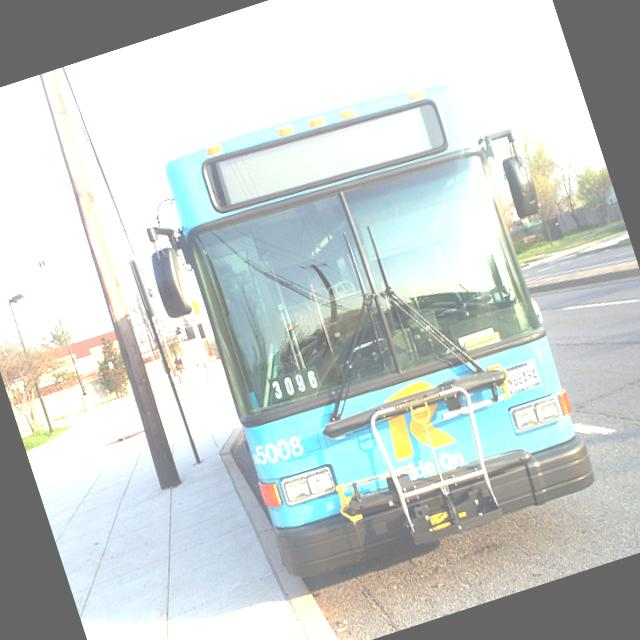Vehicle: (115, 46, 637, 599)
